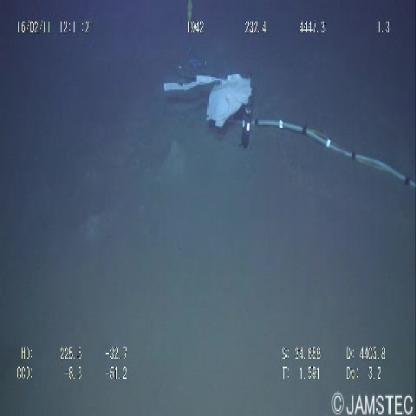Rác: (160, 66, 260, 137)
